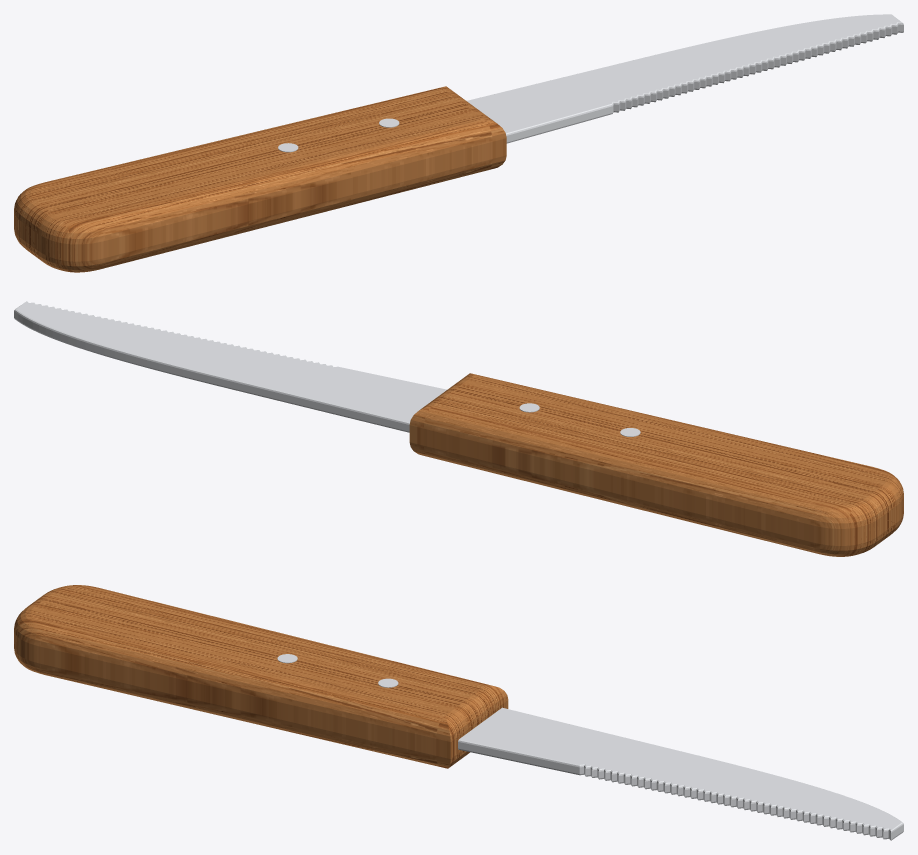
The model's file is CUB-27.glb.
3 views of the same model, one above another, from view 1: azimuth 30°, elevation 25°; view 2: azimuth 150°, elevation 25°; view 3: azimuth 330°, elevation 25° (orthographic).
Visible parts, largest first — view 1: mango, hoja; view 2: mango, hoja; view 3: mango, hoja.
Boxes of the visible parts, x1,y1,x2,y2 form: mango: (14,86,506,272); hoja: (467,14,903,143); mango: (409,373,903,556); hoja: (14,301,446,432); mango: (14,585,508,768); hoja: (458,707,903,840).
Size of the model in its own units: 0.2169 by 0.0123 by 0.0279.
Materials: 2 (1 with a texture image).
